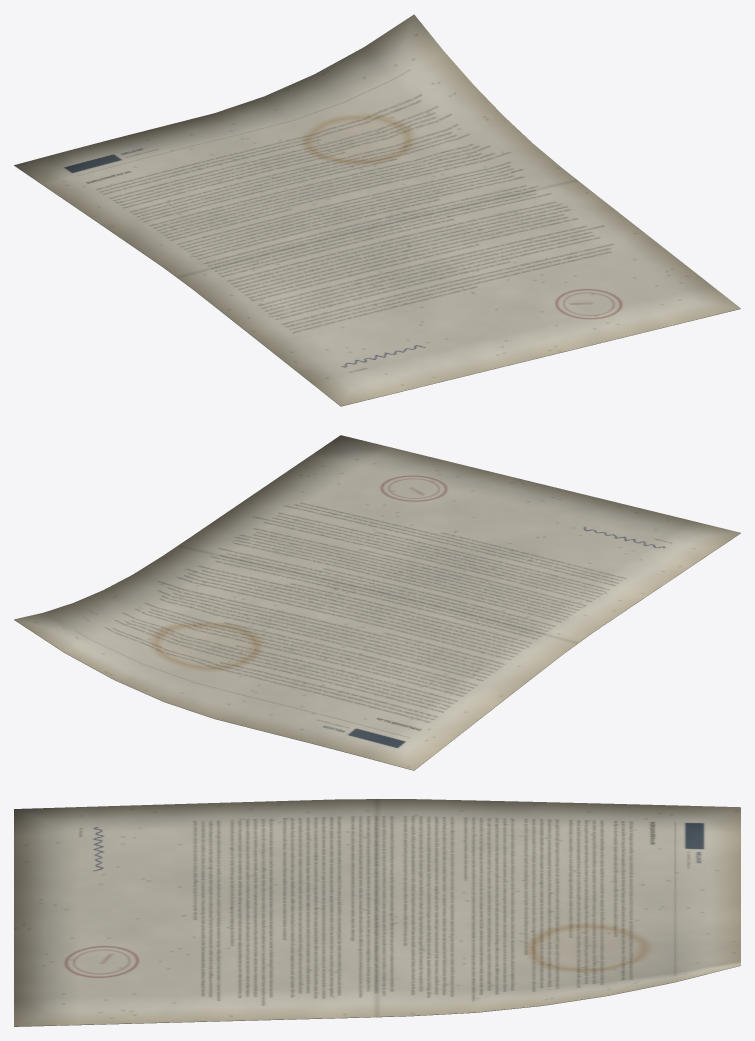
Rendered from SM_PaperA4.fbx.
3 renders of one model, top to bottom at view 1: azimuth 30°, elevation 25°; view 2: azimuth 150°, elevation 25°; view 3: azimuth 270°, elevation 25°, orthographic. The views are drawn at different scales.
Parts seen in each view (by area): view 1: SM_PaperA4; view 2: SM_PaperA4; view 3: SM_PaperA4.
Part boxes in pixels (x1=…): SM_PaperA4: x1=14, y1=14, x2=740, y2=406; SM_PaperA4: x1=14, y1=435, x2=740, y2=770; SM_PaperA4: x1=14, y1=799, x2=740, y2=1026.
Size of what is drawn, in the model's own units: 21 by 2.78 by 29.7.
